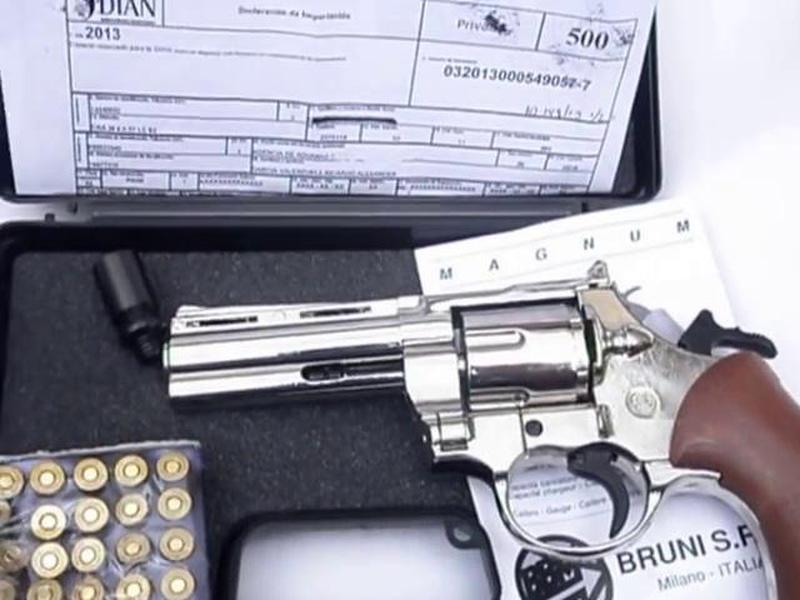Revolver: (118, 252, 800, 558)
